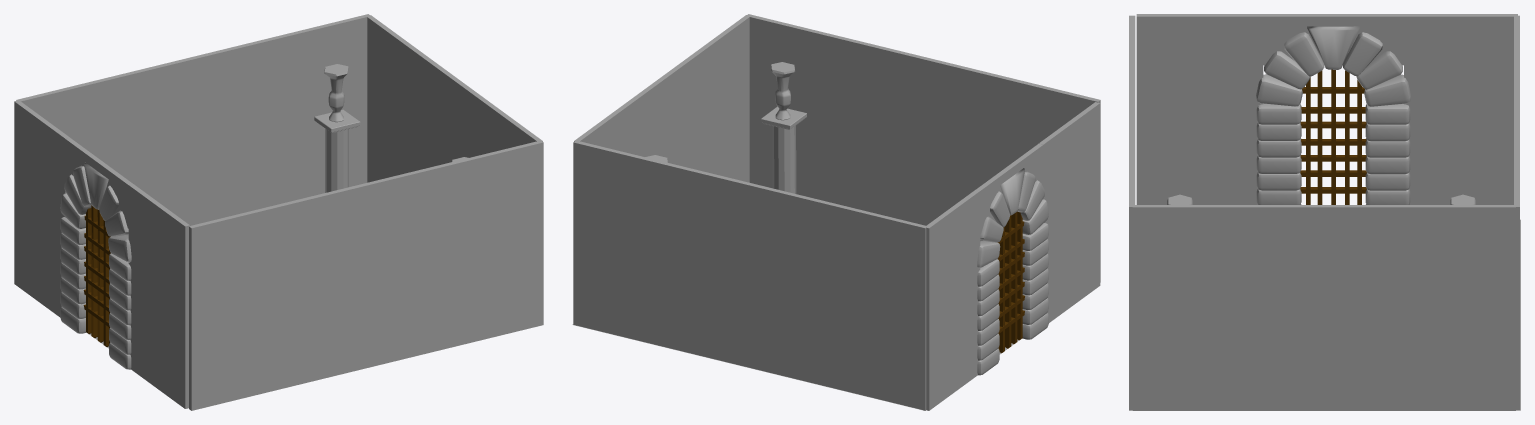
Rendered from dungeon4.fbx.
3 renders of one model, left to right at view 1: azimuth 30°, elevation 25°; view 2: azimuth 150°, elevation 25°; view 3: azimuth 270°, elevation 25°, orthographic. The views are drawn at different scales.
Parts seen in each view (by area): view 1: polySurface2, polySurface4, polySurface3, polySurface1, polySurface5, pasted__pasted__pCube45, pasted__pasted__pCube44, pasted__polySurface5, polySurface6, pasted__pasted__pasted__revolvedSurface2; view 2: polySurface4, polySurface2, polySurface3, polySurface1, polySurface5, pasted__pasted__pCube45, pasted__pasted__pCube44, pasted__polySurface4, polySurface6, pasted__pasted__pasted__revolvedSurface1; view 3: polySurface3, polySurface1, polySurface5, pasted__pasted__pCube45, pasted__pasted__pCube44, polySurface6, polySurface2, polySurface4.
Boxes of the visible parts, box(x1,y1,x2,y2) form: polySurface2: box(189, 141, 543, 410); polySurface4: box(16, 14, 369, 235); polySurface3: box(366, 15, 542, 182); polySurface1: box(128, 184, 189, 408); polySurface5: box(14, 100, 69, 317); pasted__pasted__pCube45: box(60, 162, 131, 369); pasted__pasted__pCube44: box(83, 205, 110, 346); pasted__polySurface5: box(314, 109, 360, 192); polySurface6: box(65, 137, 132, 228); pasted__pasted__pasted__revolvedSurface2: box(324, 64, 348, 122); polySurface4: box(573, 140, 927, 410); polySurface2: box(746, 14, 1100, 282); polySurface3: box(574, 15, 749, 182); polySurface1: box(1039, 102, 1100, 322); polySurface5: box(925, 190, 980, 410); pasted__pasted__pCube45: box(977, 168, 1048, 375); pasted__pasted__pCube44: box(997, 211, 1024, 353); pasted__polySurface4: box(761, 106, 806, 193); polySurface6: box(976, 143, 1043, 234); pasted__pasted__pasted__revolvedSurface1: box(771, 62, 795, 120); polySurface3: box(1132, 205, 1515, 410); polySurface1: box(1136, 14, 1263, 204); polySurface5: box(1404, 14, 1517, 204); pasted__pasted__pCube45: box(1256, 26, 1410, 204); pasted__pasted__pCube44: box(1300, 69, 1366, 204); polySurface6: box(1263, 14, 1404, 65); polySurface2: box(1129, 15, 1135, 410); polySurface4: box(1514, 15, 1519, 410).
Bounding box in the file's own units: 14.91 × 7.28 × 12.6.
